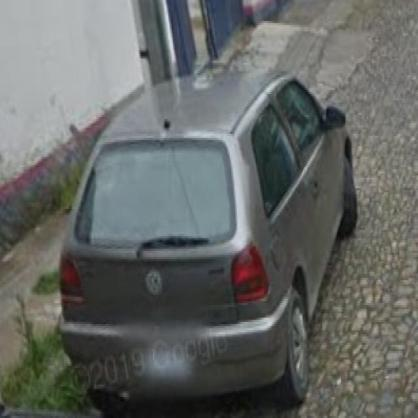car: (60, 70, 360, 416)
